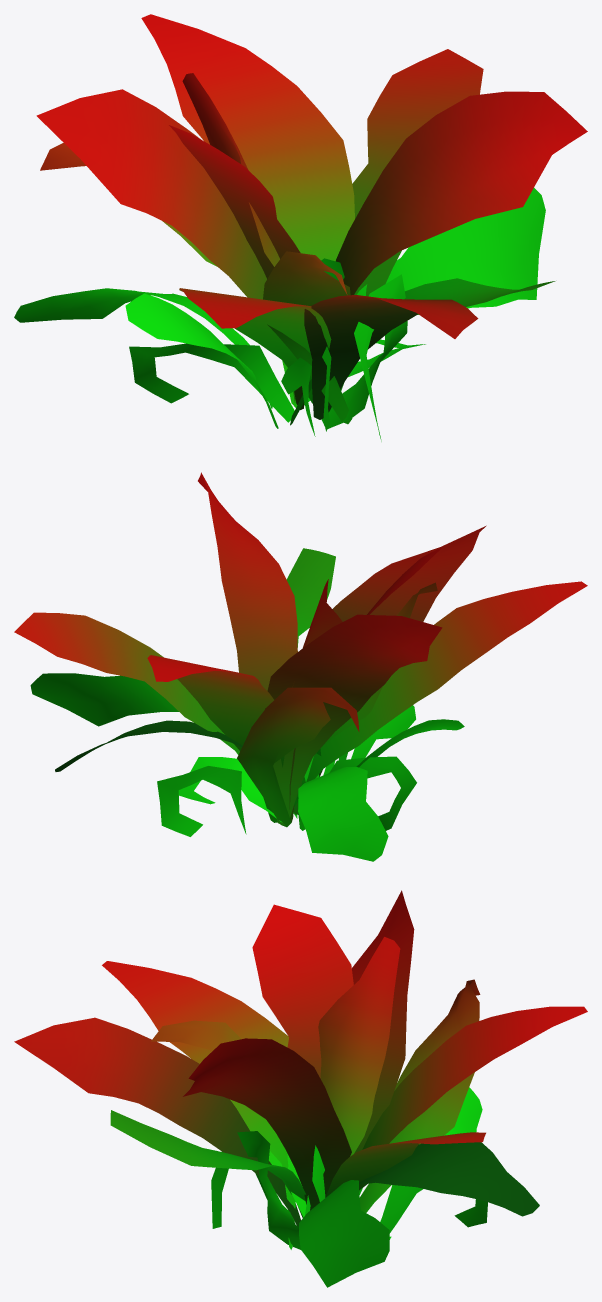
The model's file is Fern_LOD0_Var1_rmAsg.fbx.
The picture shows the model from 3 angles, top to bottom: view 1: azimuth 30°, elevation 25°; view 2: azimuth 150°, elevation 25°; view 3: azimuth 270°, elevation 25°; orthographic projection. The views are drawn at different scales.
Parts seen in each view (by area): view 1: _4260_Var1_LOD0; view 2: _4260_Var1_LOD0; view 3: _4260_Var1_LOD0.
Boxes of the visible parts, box(x1,y1,x2,y2) form: _4260_Var1_LOD0: box(14, 14, 587, 441); _4260_Var1_LOD0: box(14, 472, 587, 861); _4260_Var1_LOD0: box(14, 890, 587, 1287).
Bounding box in the file's own units: 155 × 103 × 188.
